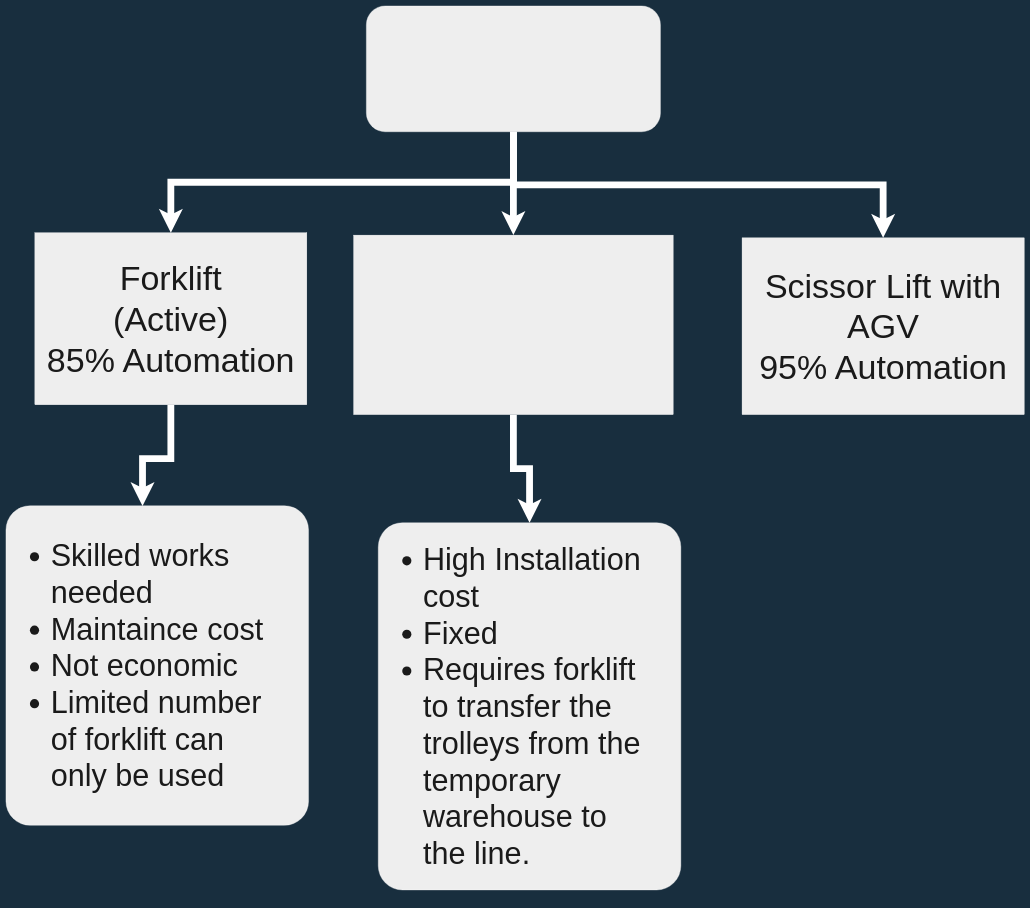
The diagram is 1030 pixels wide and 908 high, and some of its shapes have lost their labels. The shapes that lost their labels are listed below. From the top down, each one's centre as x and y in pixels, then its label:
At (x=513, y=69): "Truck unloading Automation".
At (x=513, y=325): "Auto Puller Ramp (Active) 90% Automation".
